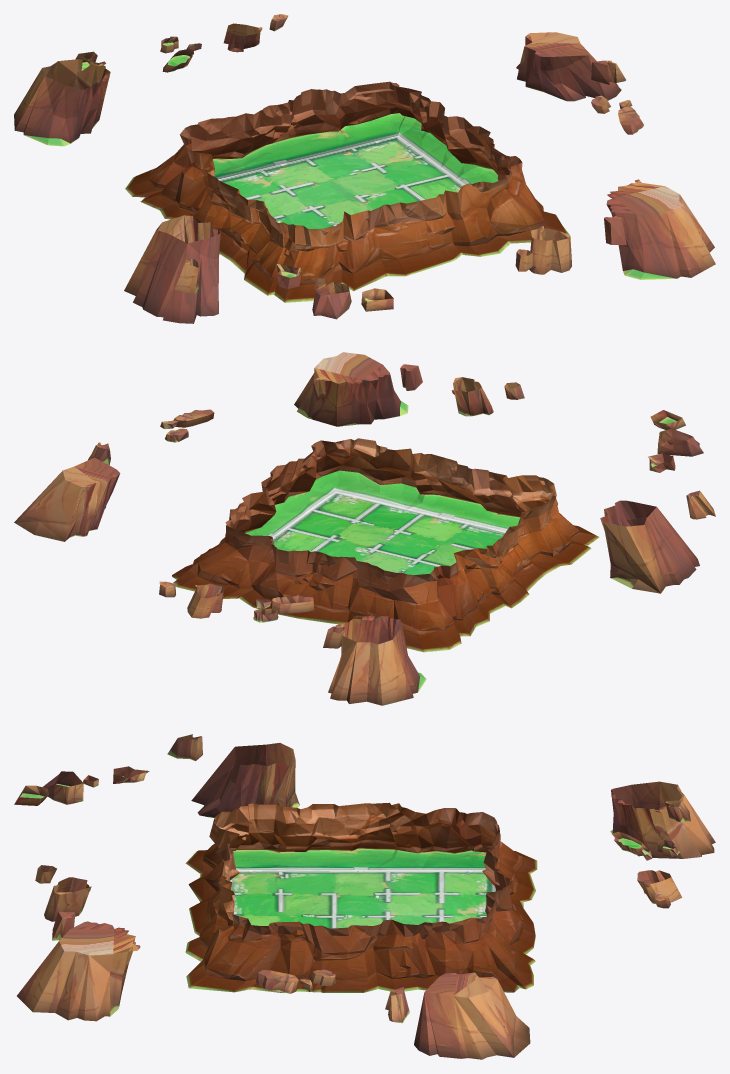
File: isoleMappa.obj
3 renders of one model, top to bottom at view 1: azimuth 30°, elevation 25°; view 2: azimuth 150°, elevation 25°; view 3: azimuth 270°, elevation 25°, orthographic. The views are drawn at different scales.
Visible parts, largest first — view 1: Islands_0.1; view 2: Islands_0.1; view 3: Islands_0.1.
Part boxes in pixels (x1,y1,x2,y2): Islands_0.1: [14, 14, 715, 323]; Islands_0.1: [14, 352, 715, 705]; Islands_0.1: [14, 734, 715, 1059].
Size of the model in its own units: 31.98 by 3.76 by 33.21.
